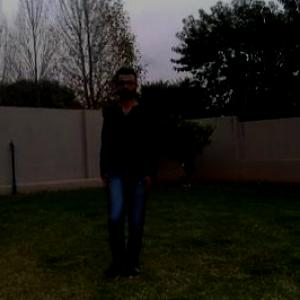follow: (104, 80, 151, 270)
